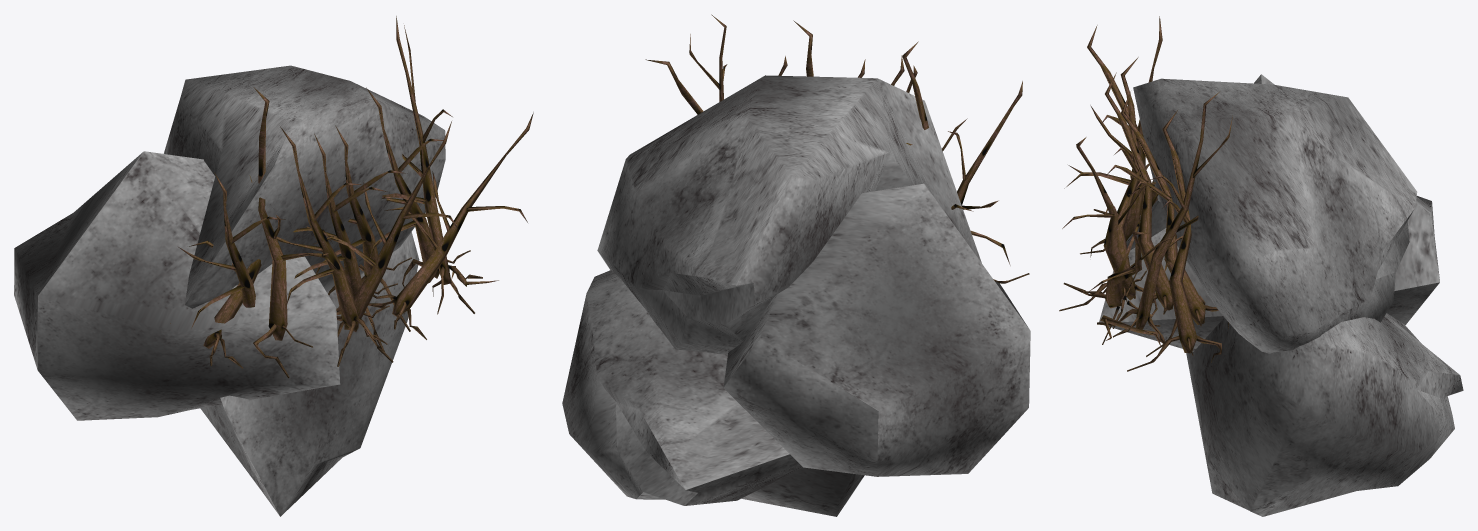
File: Gate.fbx
3 views of the same model, side by side, from view 1: azimuth 30°, elevation 25°; view 2: azimuth 150°, elevation 25°; view 3: azimuth 270°, elevation 25° (orthographic). The views are drawn at different scales.
Parts seen in each view (by area): view 1: Gate, Scatter5 Merged Export.003; view 2: Gate, Scatter5 Merged Export.003; view 3: Gate, Scatter5 Merged Export.003.
Boxes of the visible parts, x1,y1,x2,y2 form: Gate: (14,65,445,516); Scatter5 Merged Export.003: (170,16,533,378); Gate: (562,75,1030,516); Scatter5 Merged Export.003: (645,14,1029,283); Gate: (1099,74,1463,516); Scatter5 Merged Export.003: (1059,16,1232,371).
Bounding box in the file's own units: 43.31 × 44.37 × 35.33.
